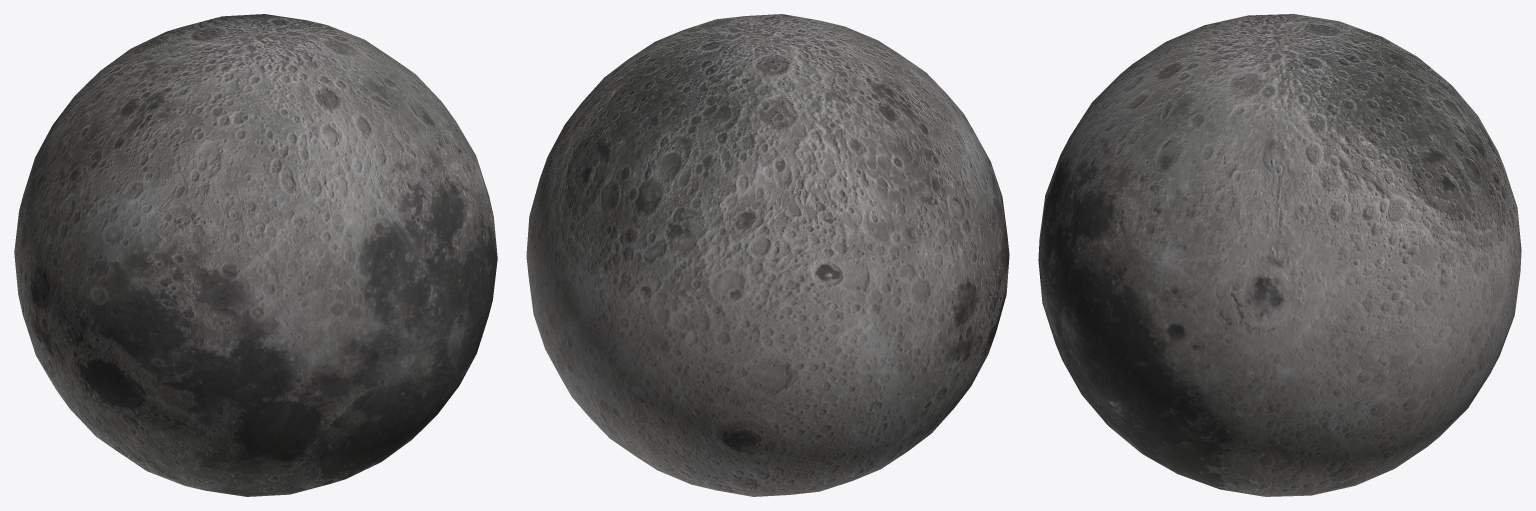
File: moon.glb
The picture shows the model from 3 angles, left to right: view 1: azimuth 30°, elevation 25°; view 2: azimuth 150°, elevation 25°; view 3: azimuth 270°, elevation 25°; orthographic projection.
Visible parts, largest first — view 1: Moon_Cube.002; view 2: Moon_Cube.002; view 3: Moon_Cube.002.
Boxes of the visible parts, x1,y1,x2,y2 form: Moon_Cube.002: [14, 14, 497, 496]; Moon_Cube.002: [526, 14, 1009, 496]; Moon_Cube.002: [1038, 14, 1521, 496].
Bounding box in the file's own units: 3.48 × 3.49 × 3.48.
1 material, 1 textured.
